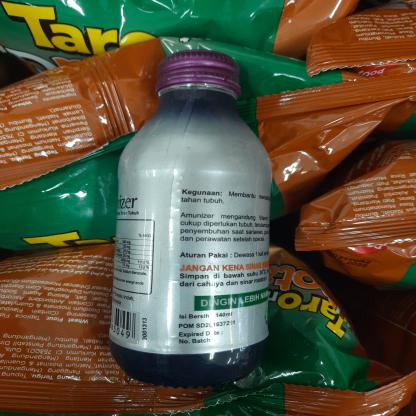keyboard: (111, 51, 277, 389)
